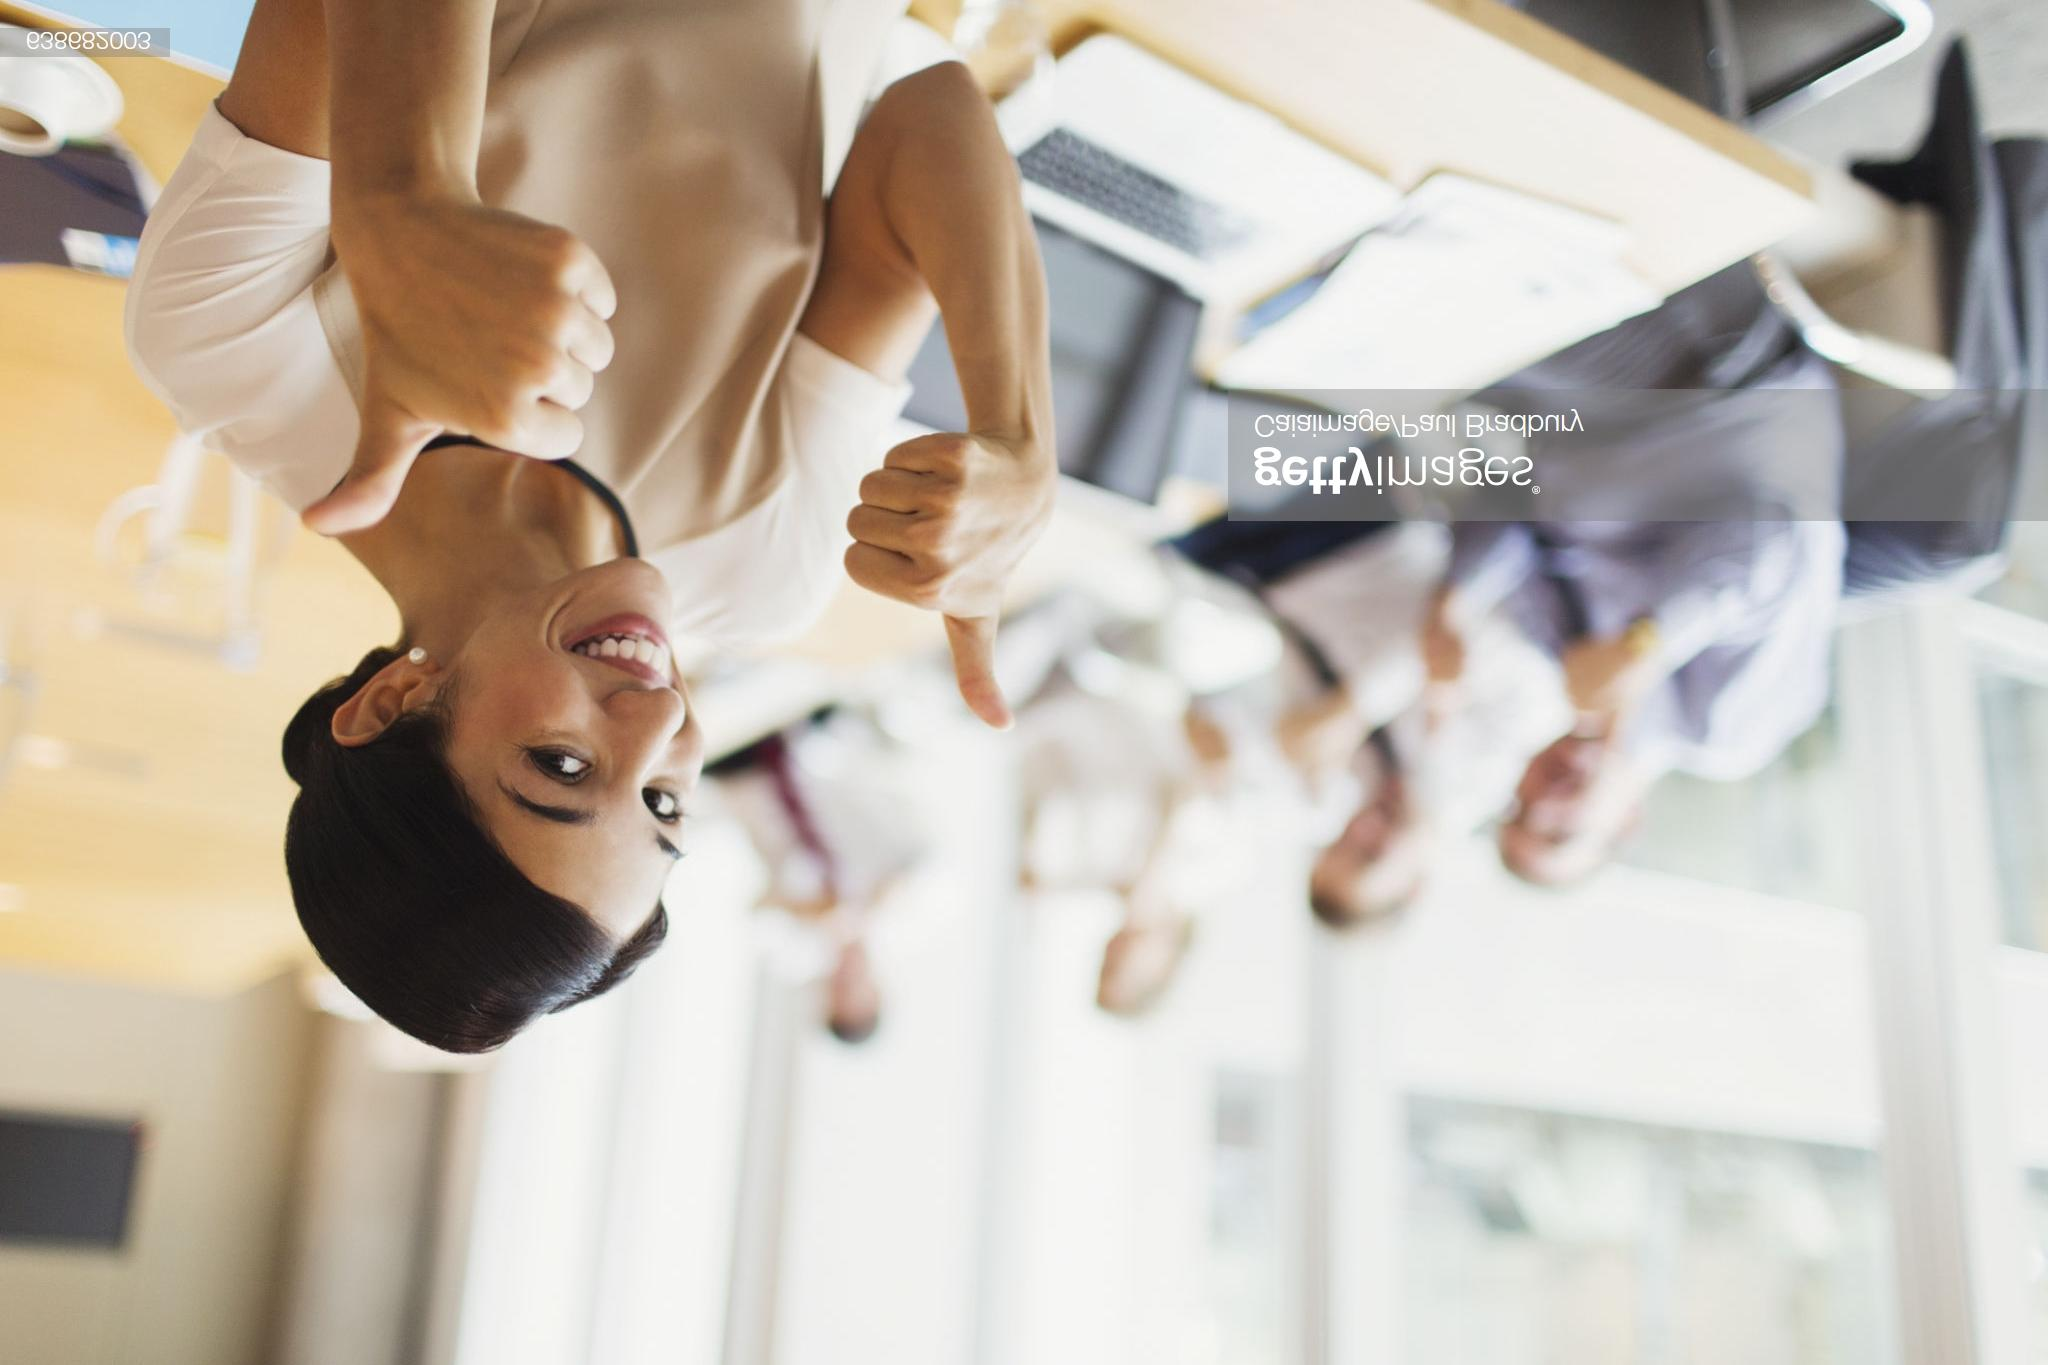thumbsdown: (300, 229, 618, 536), (841, 430, 1016, 731)
